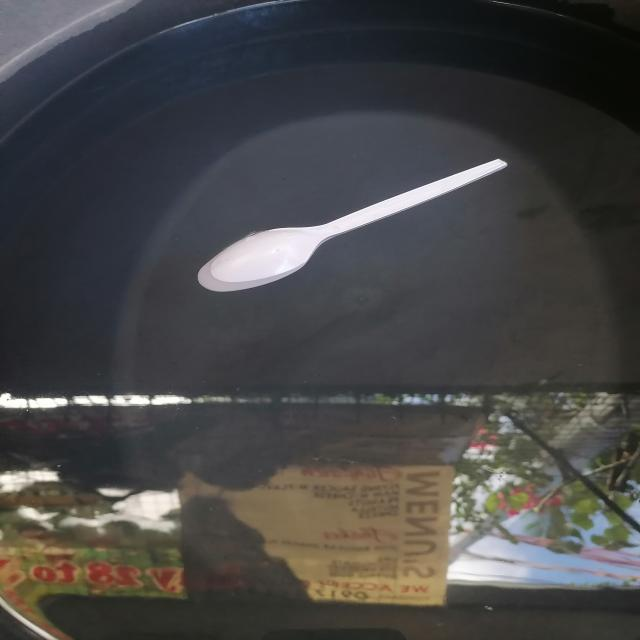Plastic Spoon: (198, 159, 506, 292)
